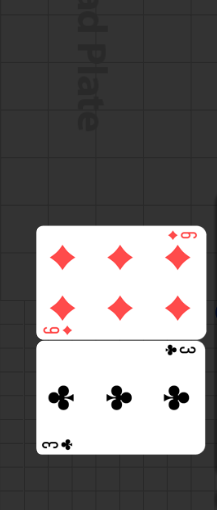3C: (41, 438, 75, 452)
6D: (42, 324, 74, 336)
